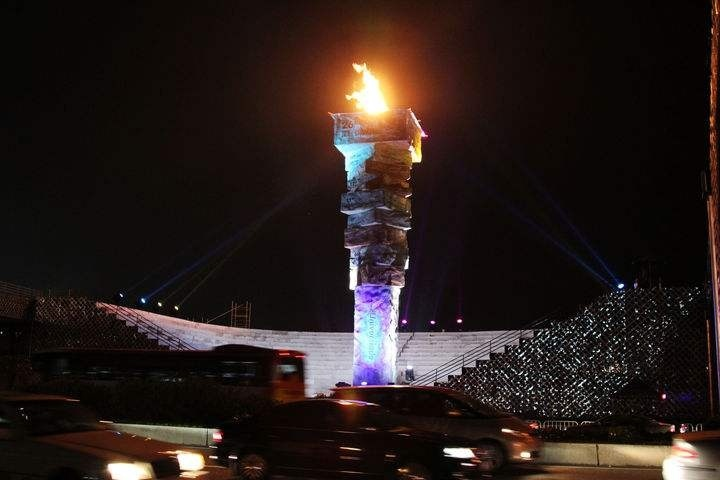fire: (343, 57, 389, 114)
